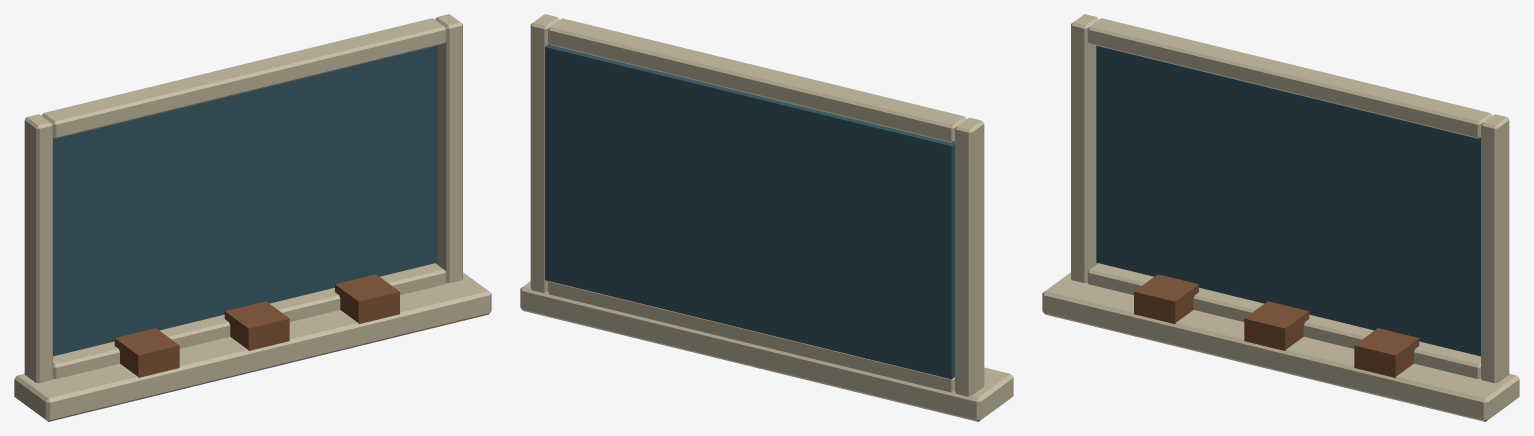
The model's file is window_18.glb.
3 renders of one model, left to right at view 1: azimuth 30°, elevation 25°; view 2: azimuth 150°, elevation 25°; view 3: azimuth 330°, elevation 25°, orthographic. The views are drawn at different scales.
Visible parts, largest first — view 1: window_18; view 2: window_18; view 3: window_18.
Part boxes in pixels (x1,y1,x2,y2): window_18: (14, 14, 491, 421); window_18: (520, 14, 1013, 421); window_18: (1042, 14, 1519, 421).
Size of the model in its own units: 2.38 by 1.43 by 0.3275.
